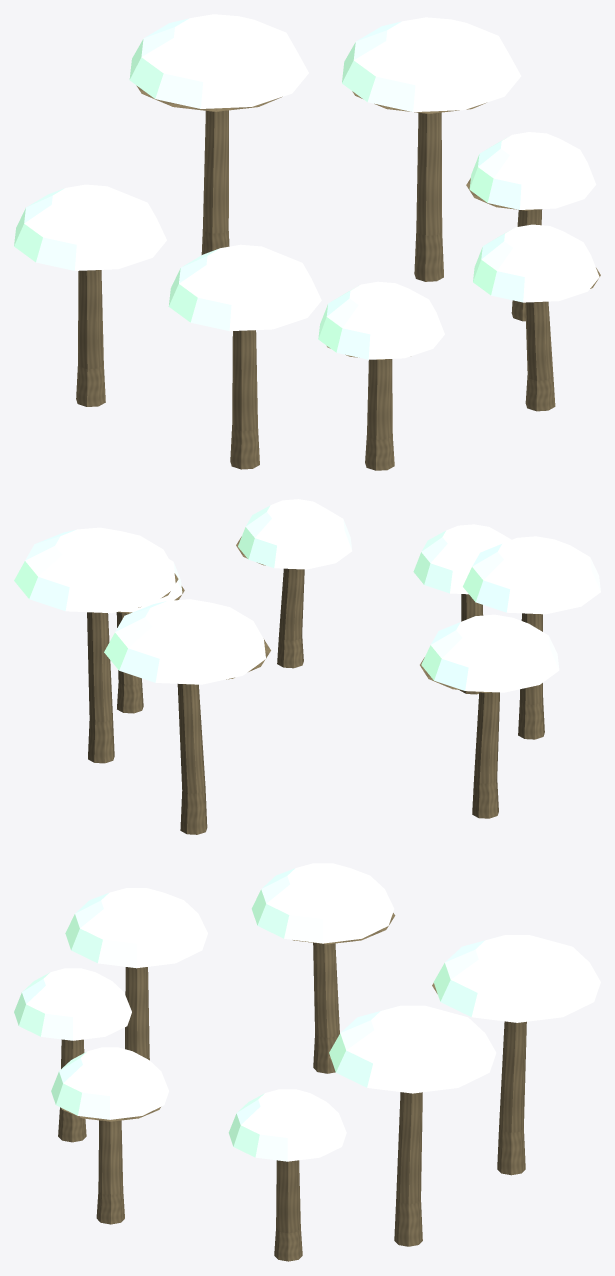
Rendered from pale_glowing_cap_cluster_swamp_and_mangrove_22665.glb.
The picture shows the model from 3 angles, top to bottom: view 1: azimuth 30°, elevation 25°; view 2: azimuth 150°, elevation 25°; view 3: azimuth 270°, elevation 25°; orthographic projection. The views are drawn at different scales.
Visible parts, largest first — view 1: glowing-caps; view 2: glowing-caps; view 3: glowing-caps.
Part boxes in pixels (box(x1,y1,x2,y2)): glowing-caps: box(14, 14, 600, 470); glowing-caps: box(14, 499, 600, 834); glowing-caps: box(14, 863, 600, 1261).
Bounding box in the file's own units: 1.17 × 0.4992 × 1.18.
2 materials, 1 textured.
